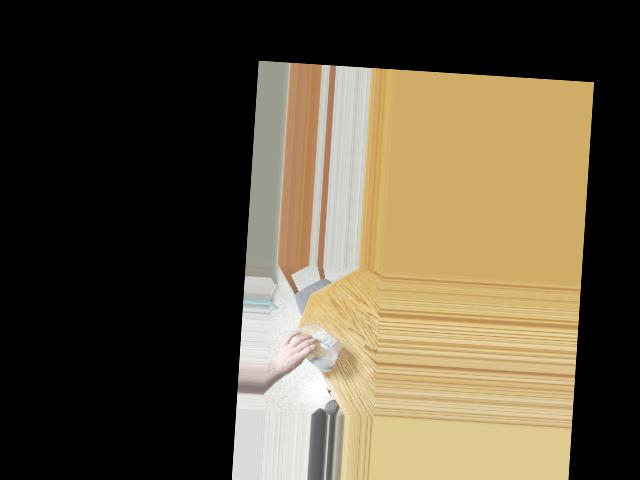cheese: (284, 320, 342, 369)
